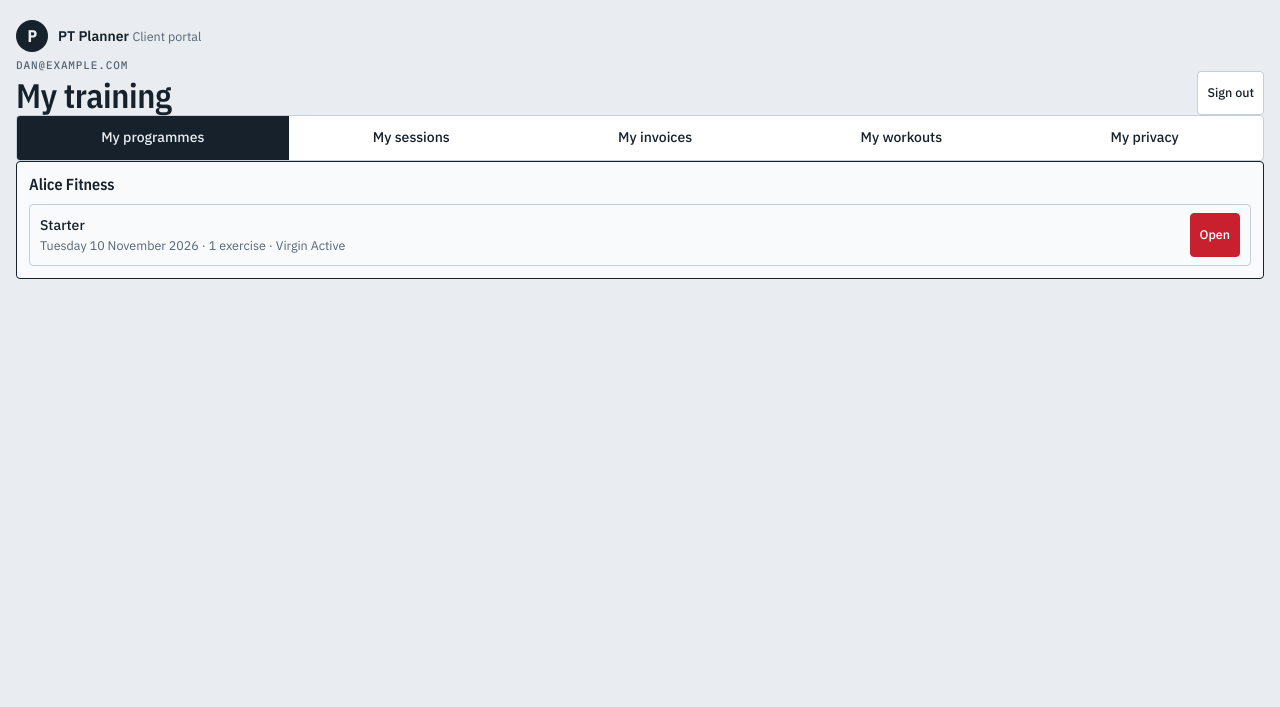
Test: a client runs their own programme › if saving fails the client is told, not left thinking it worked
The image size is (1280, 707).
Click the button with aria-label "Open Starter" at (1215, 235), box top-left (1190, 213), bottom-right (1240, 257)
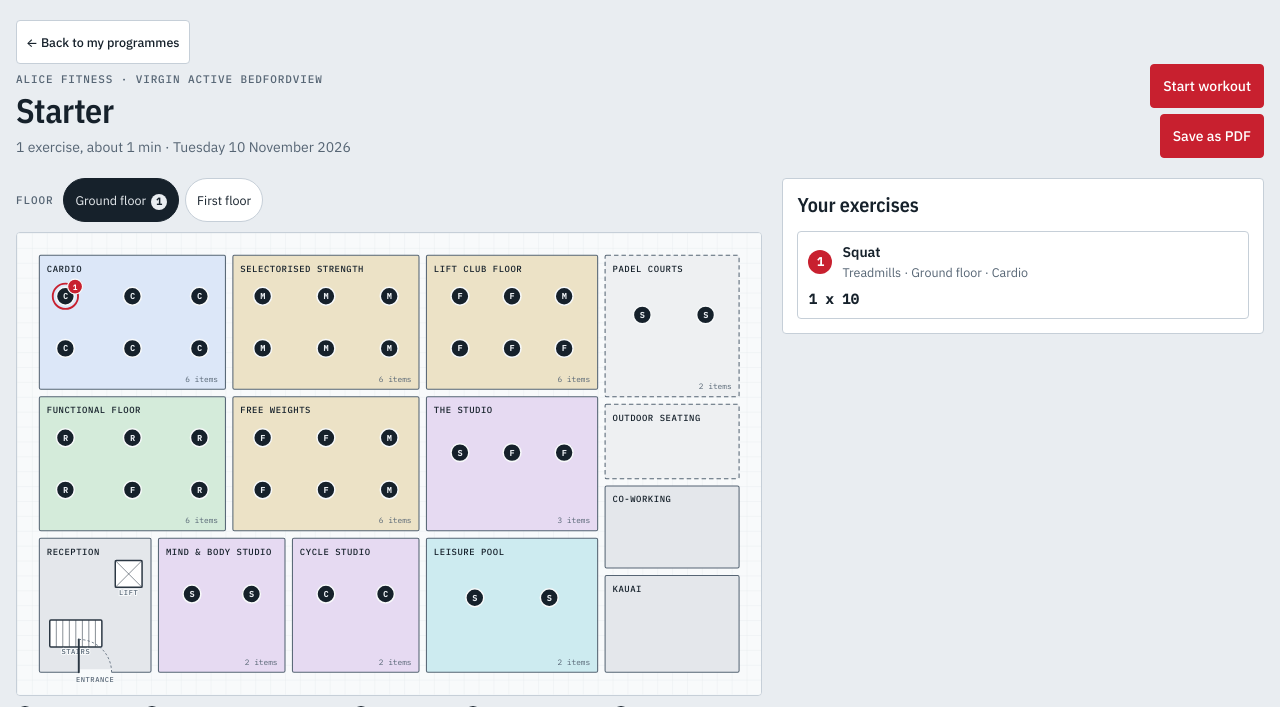
Click the button "Start workout" at (1207, 86), box top-left (1150, 64), bottom-right (1264, 108)
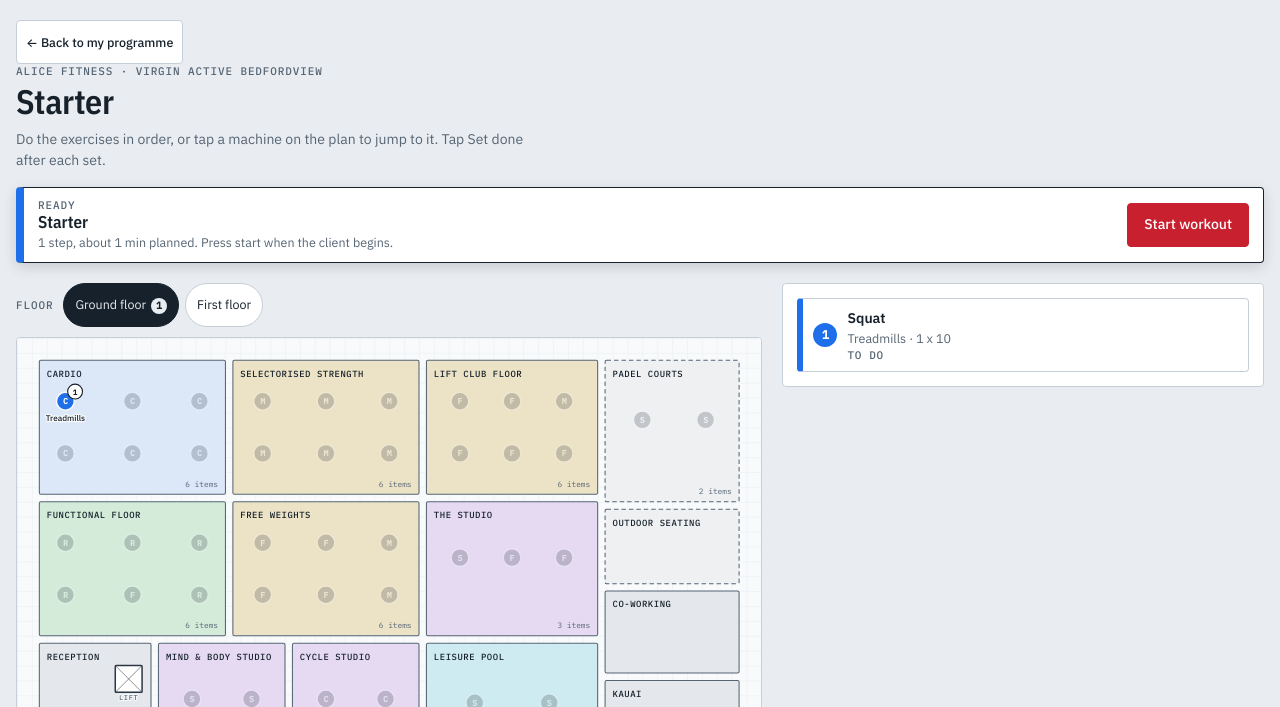
Click the button "Start workout" at (1188, 225), box top-left (1127, 203), bottom-right (1249, 247)
Wait 10000 ms
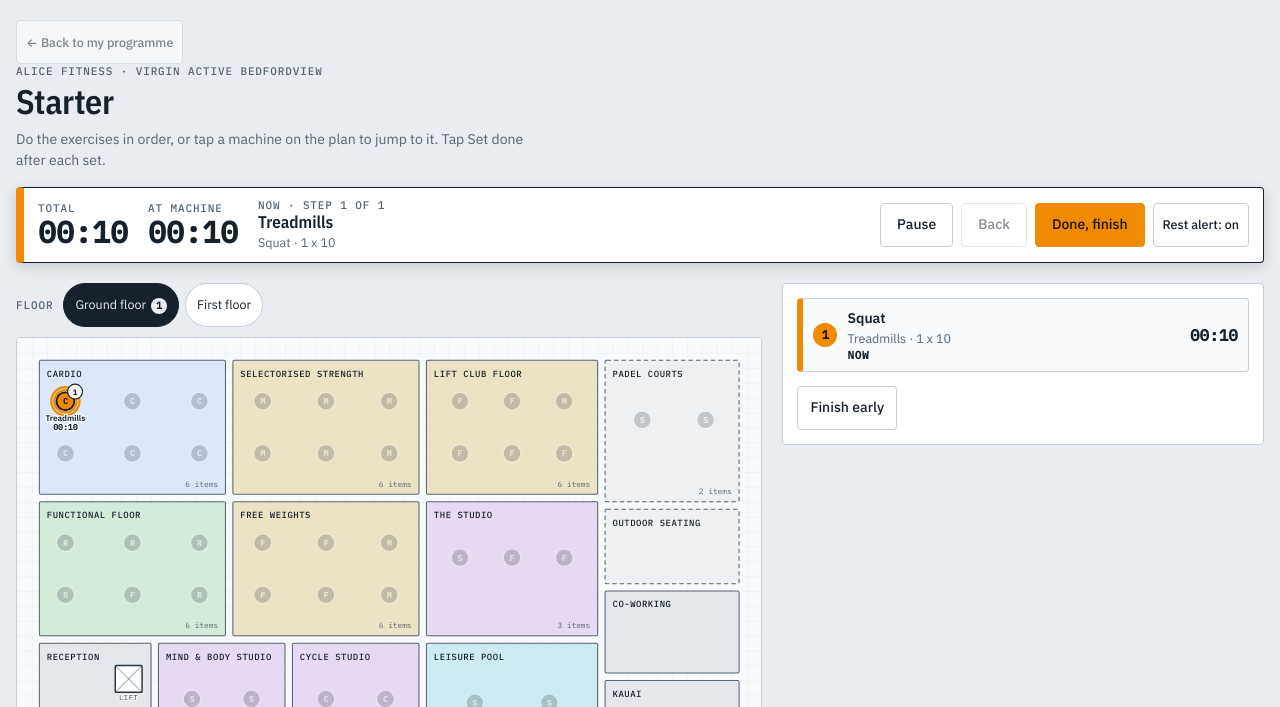
Click the button "Done, finish" at (1090, 225), box top-left (1035, 203), bottom-right (1145, 247)
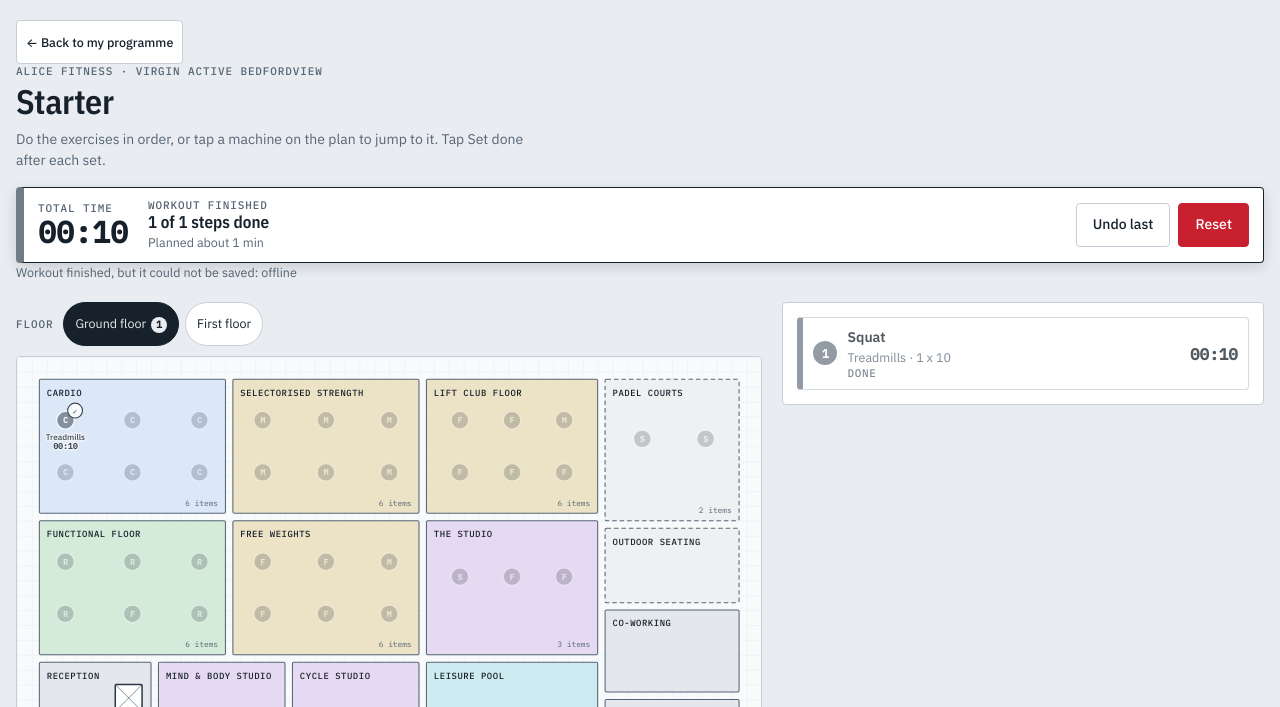
Check: the text "Workout finished, but it could not be saved: offline" is shown, box top-left (16, 264), bottom-right (297, 280)
